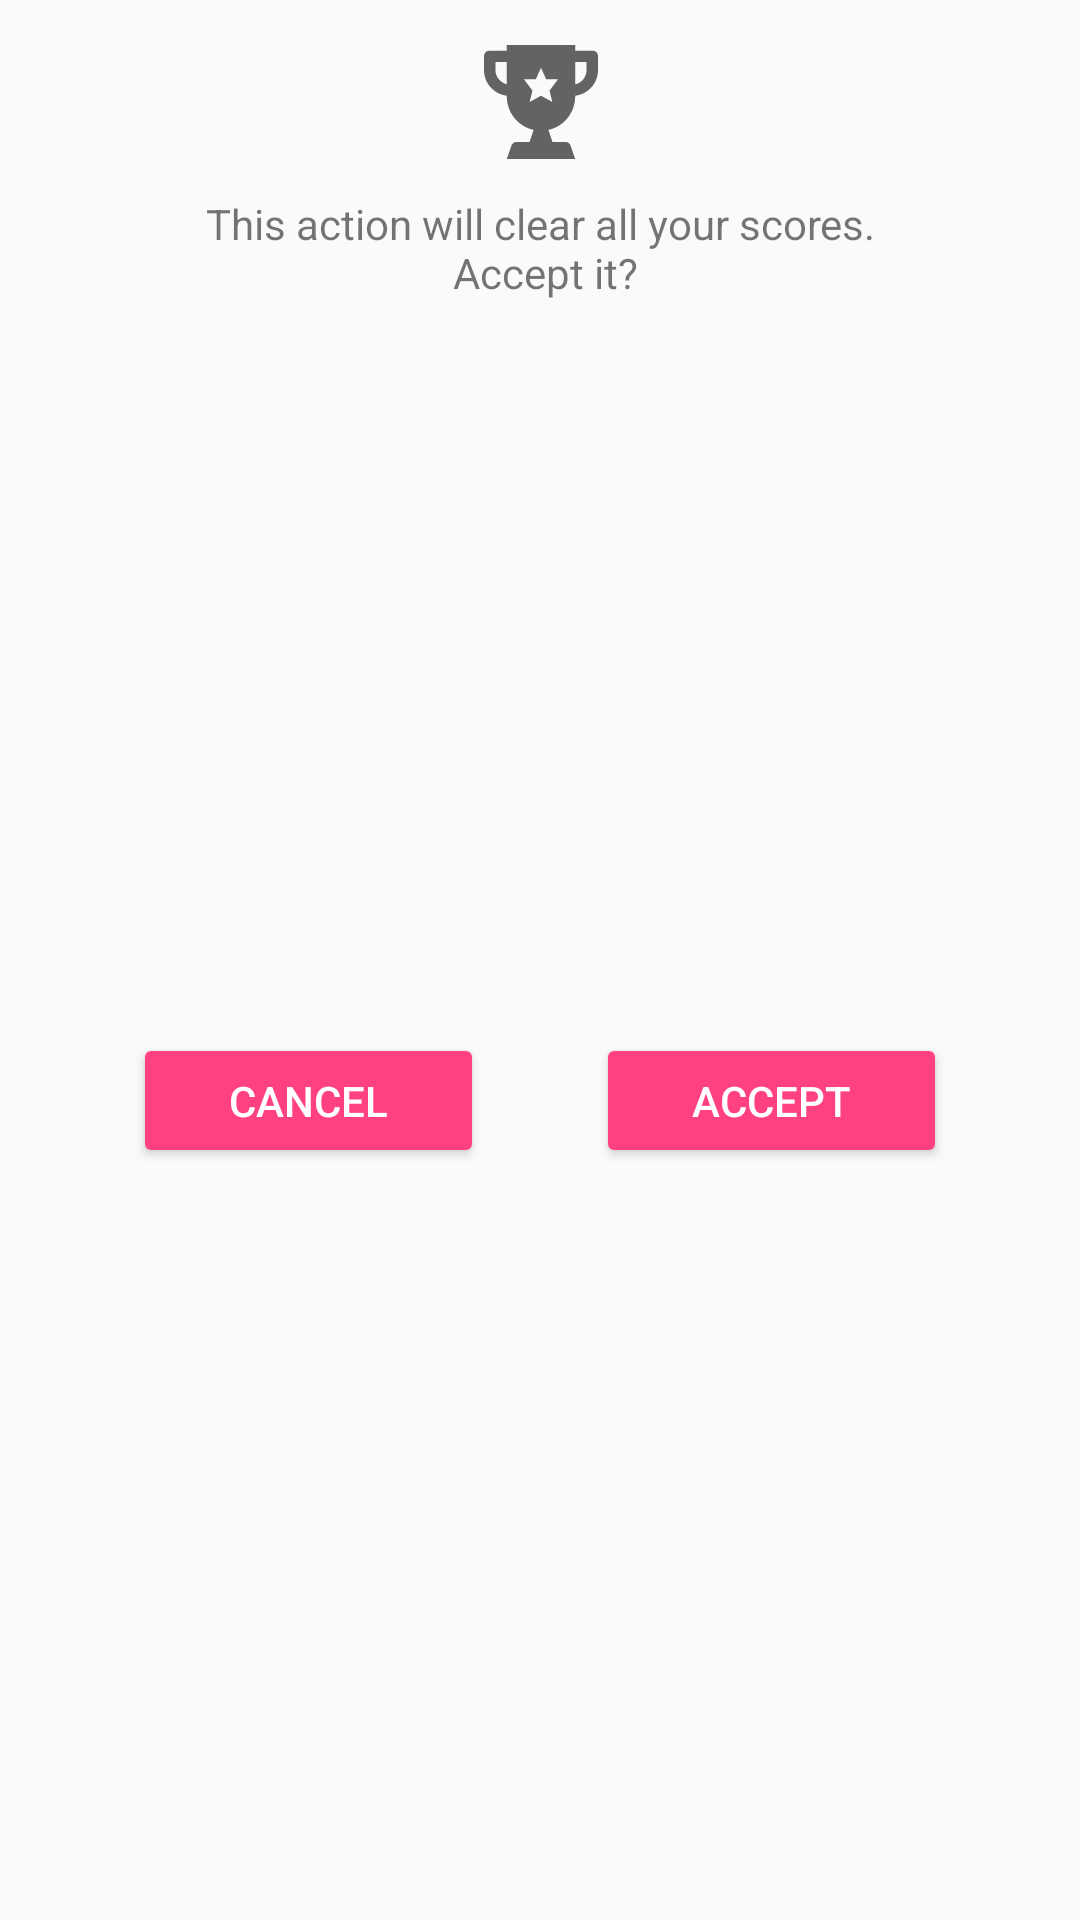

Named icons in this screenshot (1080 x 1920) and their bounding boxes, [x1,y1,x2,y2]:
trophy clear: [484,45,598,159]
